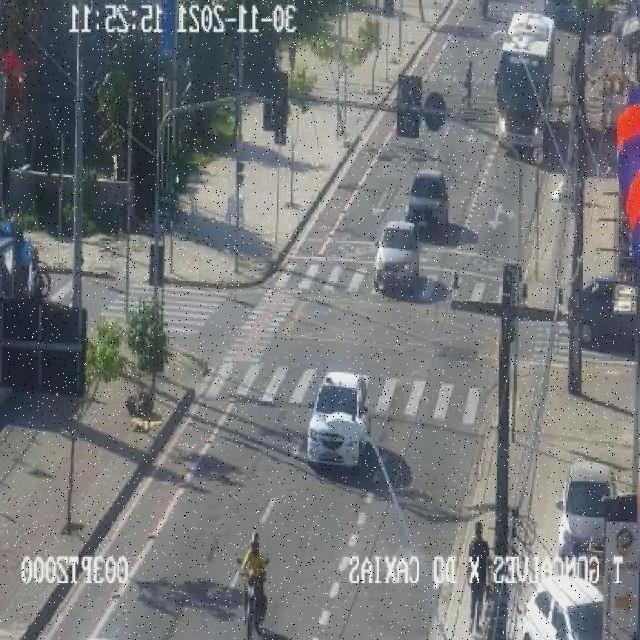Bus: (492, 13, 560, 155)
Car: (302, 373, 373, 474), (372, 219, 420, 299), (406, 170, 450, 242)
Cycle: (236, 526, 273, 640)
